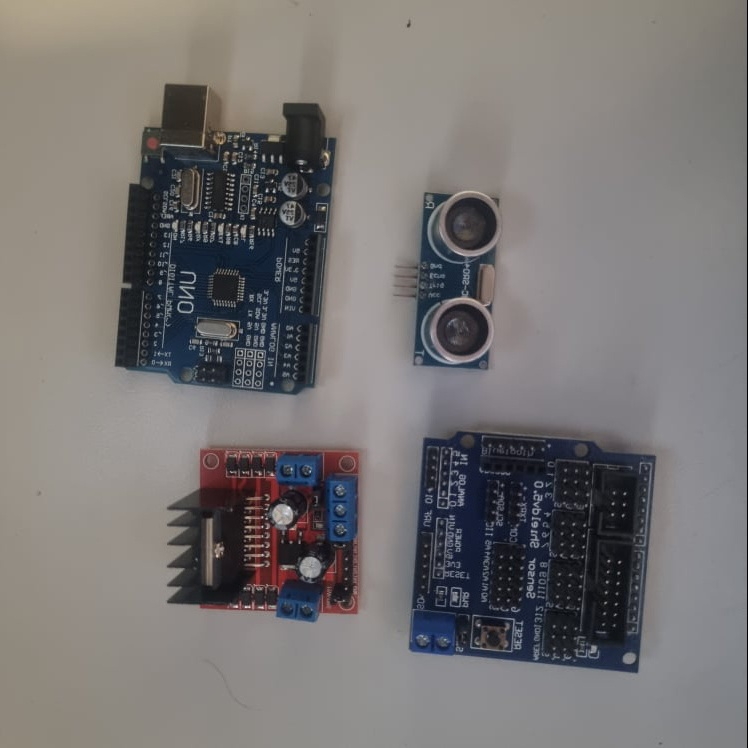5V EXPANSION: (410, 433, 659, 674)
MOTOR: (167, 448, 362, 625)
SENSOR: (410, 188, 500, 377)
UNO R3: (116, 82, 337, 395)
